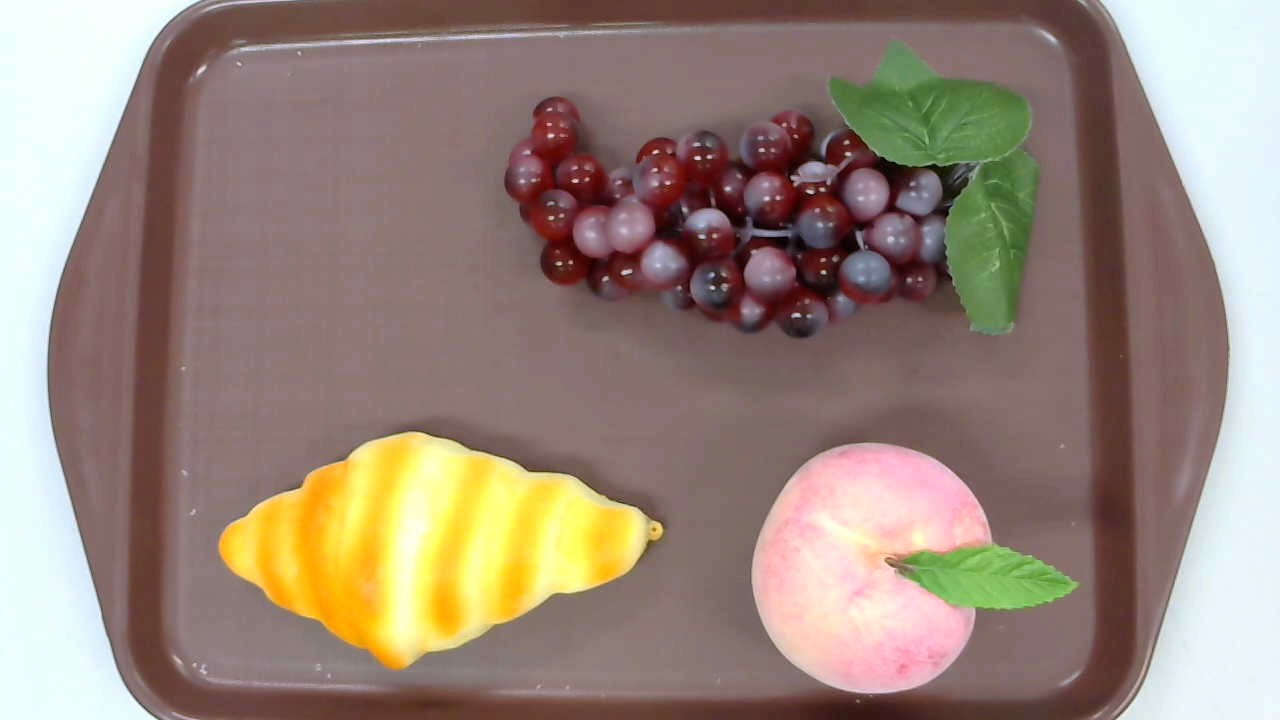croissant: (218, 431, 664, 672)
grape: (503, 36, 1041, 344)
peach: (751, 441, 1080, 692)
